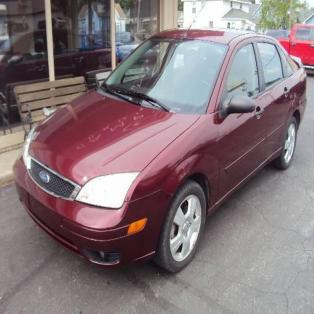Auto: (11, 28, 306, 274)
